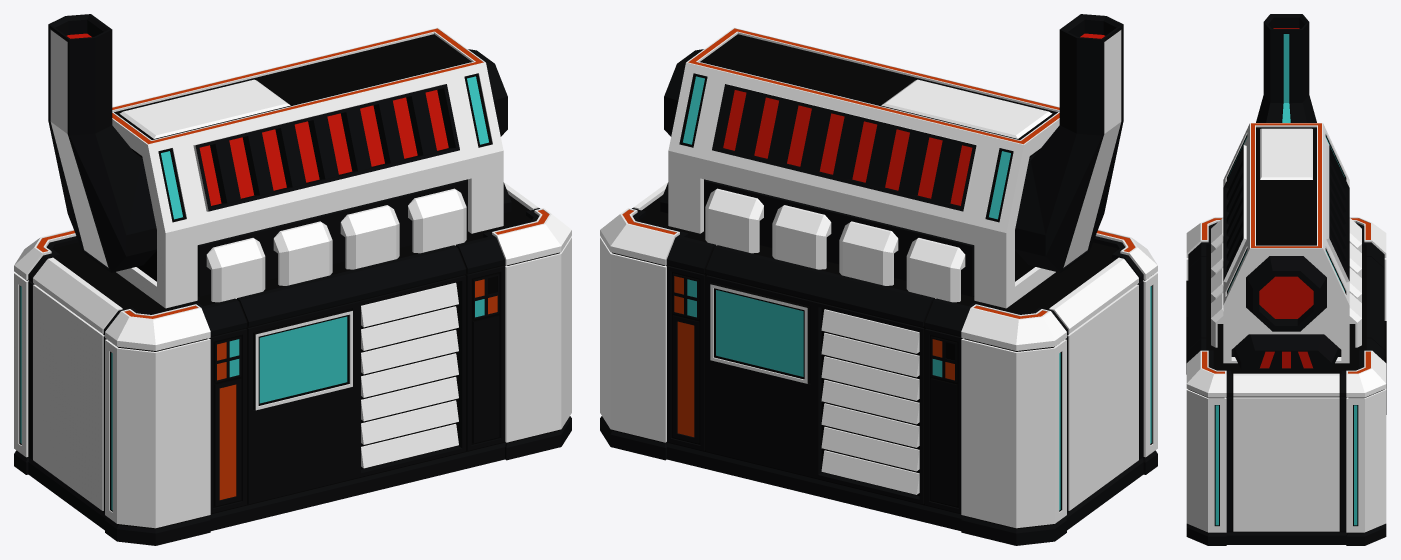
Rendered from SM_Thermal_T1.obj.
3 renders of one model, left to right at view 1: azimuth 30°, elevation 25°; view 2: azimuth 150°, elevation 25°; view 3: azimuth 270°, elevation 25°, orthographic. The views are drawn at different scales.
Parts seen in each view (by area): view 1: SM_Thermal_T1; view 2: SM_Thermal_T1; view 3: SM_Thermal_T1.
Part boxes in pixels (<box>): SM_Thermal_T1: <box>14,14,571,545</box>; SM_Thermal_T1: <box>600,14,1157,545</box>; SM_Thermal_T1: <box>1186,14,1386,545</box>.
Bounding box in the file's own units: 2.03 × 1.99 × 1.
